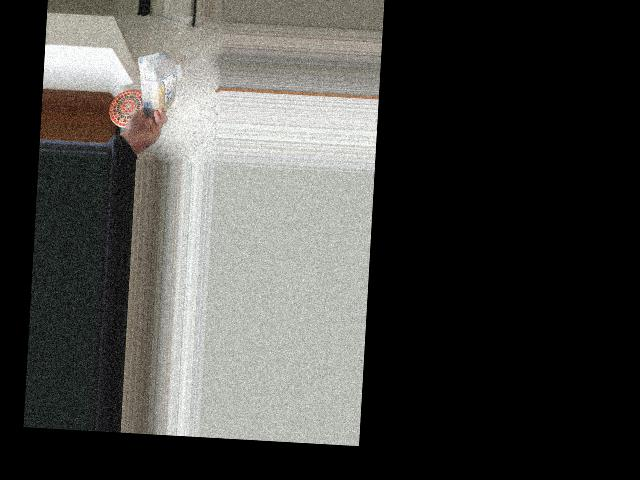cheese: (138, 49, 178, 117)
